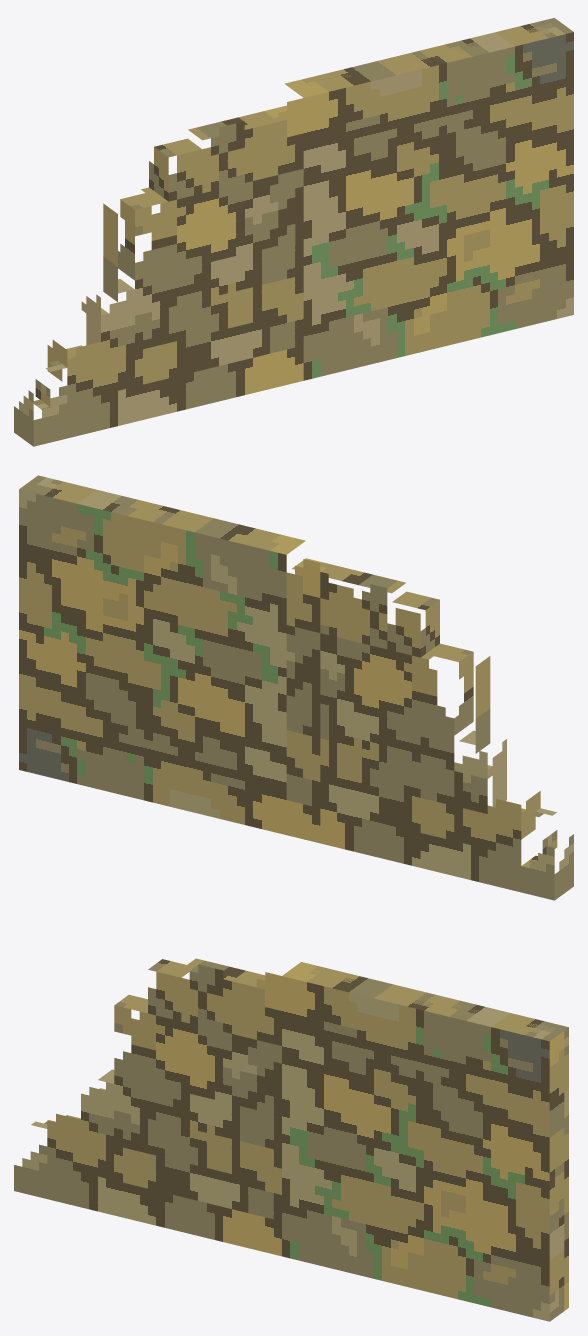
The model's file is CrumblingWall.gltf.
The picture shows the model from 3 angles, top to bottom: view 1: azimuth 30°, elevation 25°; view 2: azimuth 150°, elevation 25°; view 3: azimuth 330°, elevation 25°; orthographic projection.
Bounding box in the file's own units: 4 × 2 × 0.375.
1 material, 1 textured.
